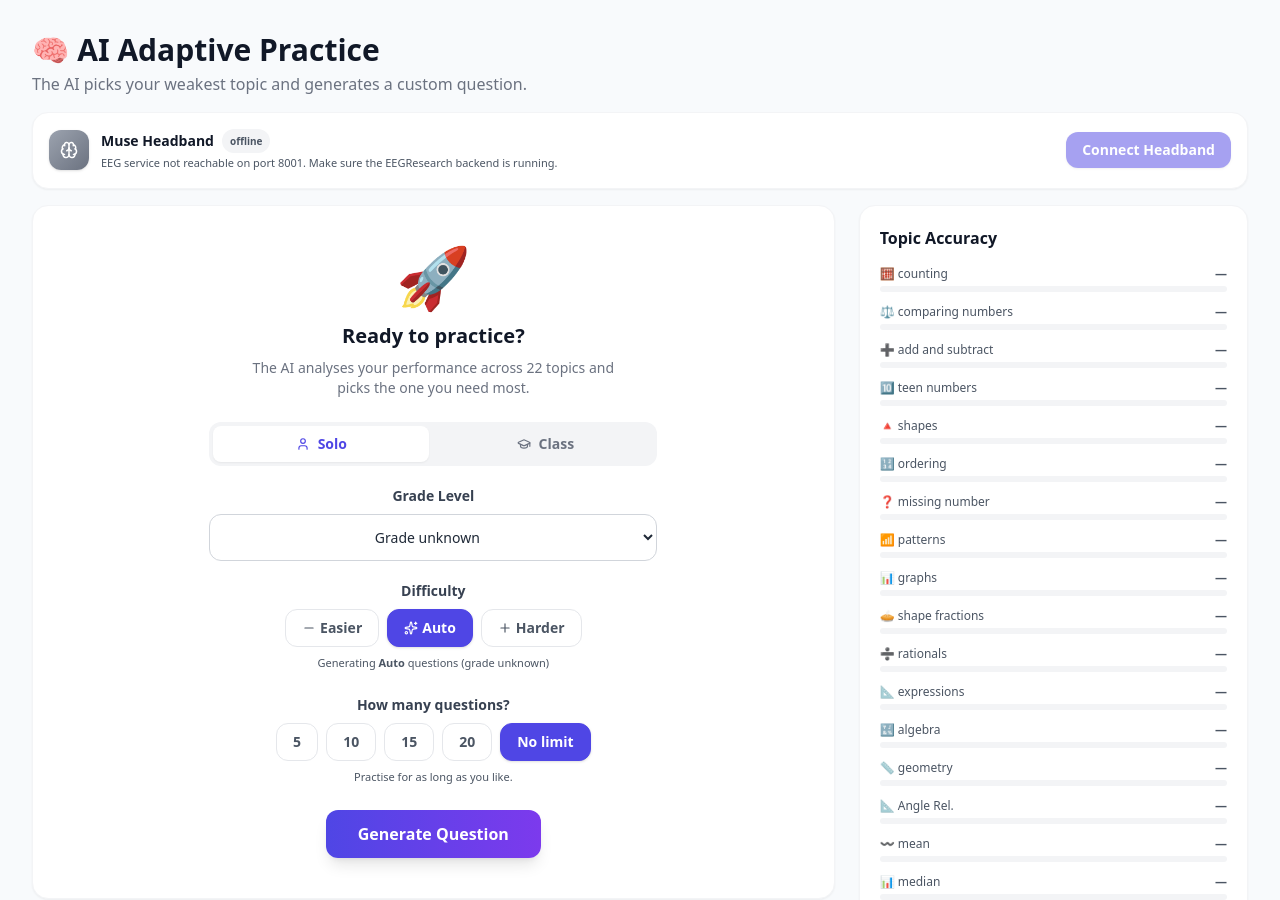
Test: says so when a class has no grade and the student's could not be read
Click the button "Class" at point(545, 444), box 437,426 -> 653,462
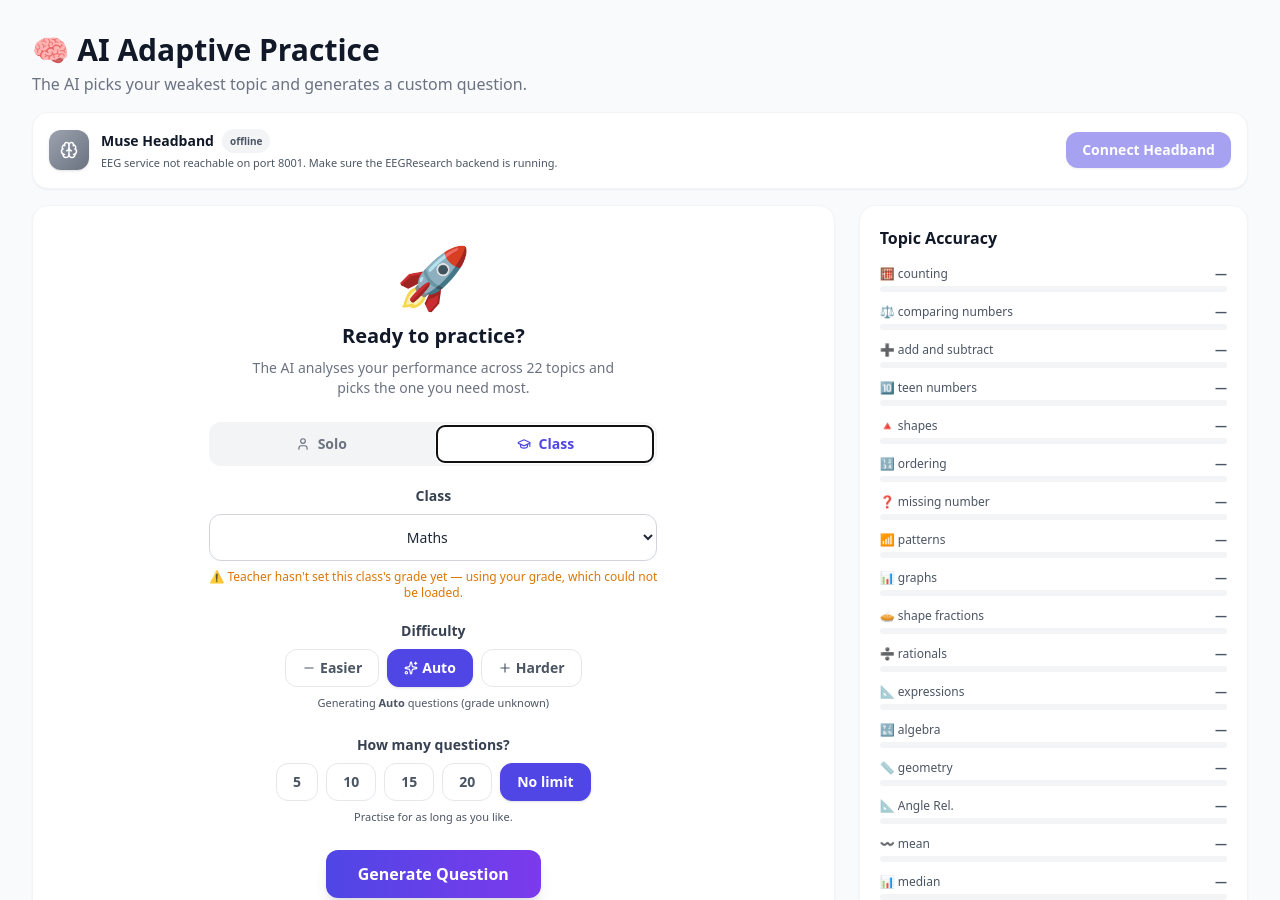
Expected: the text "Generating Auto questions (grade unknown)" is shown, 318,694 -> 549,710
Now the text "using your grade, which could not be loaded" is shown, box 404,568 -> 657,600
